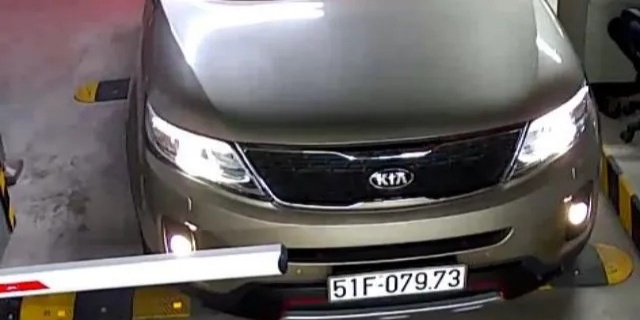bien_so: (331, 268, 464, 299)
